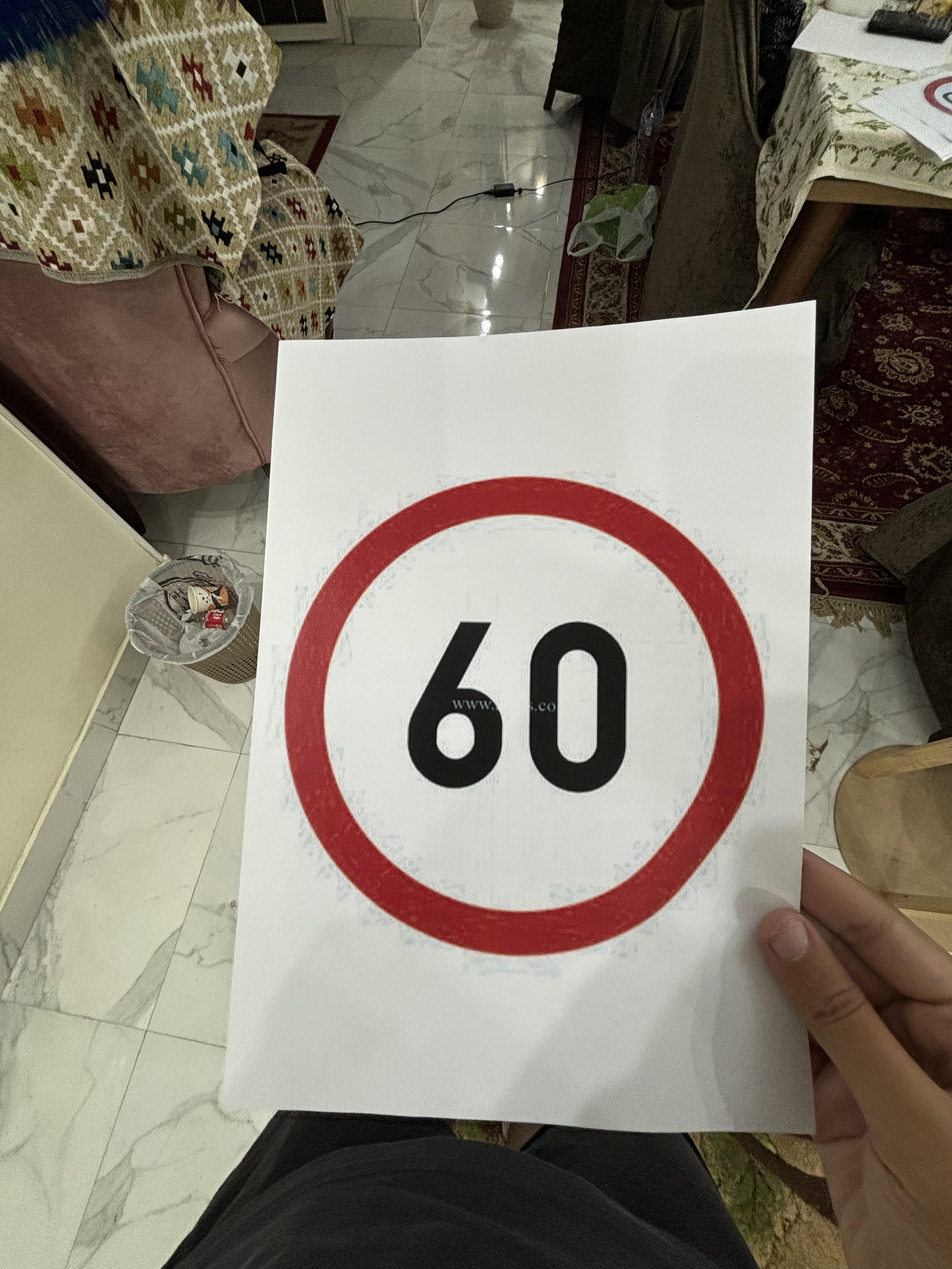60-Speed: (284, 451, 787, 974)
